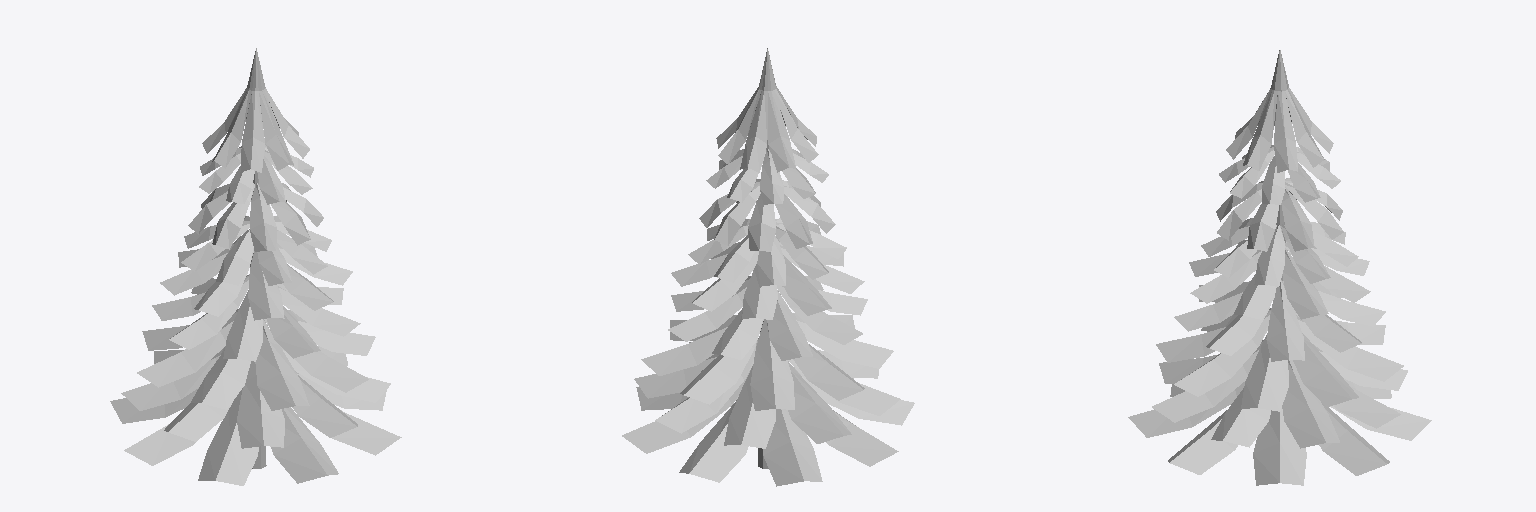
The model's file is Fir_Tree.obj.
3 renders of one model, left to right at view 1: azimuth 30°, elevation 25°; view 2: azimuth 150°, elevation 25°; view 3: azimuth 270°, elevation 25°, orthographic.
Visible parts, largest first — view 1: Fir-tree_Cylinder.002; view 2: Fir-tree_Cylinder.002; view 3: Fir-tree_Cylinder.002.
Part boxes in pixels (x1,y1,x2,y2): Fir-tree_Cylinder.002: (110,48,401,485); Fir-tree_Cylinder.002: (622,48,914,486); Fir-tree_Cylinder.002: (1128,50,1431,485).
Size of the model in its own units: 3.77 by 5.71 by 3.77.